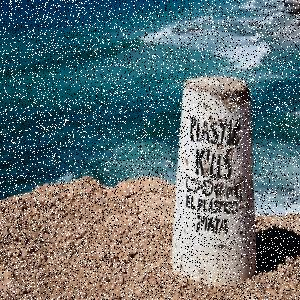Cup: (171, 76, 259, 288)
